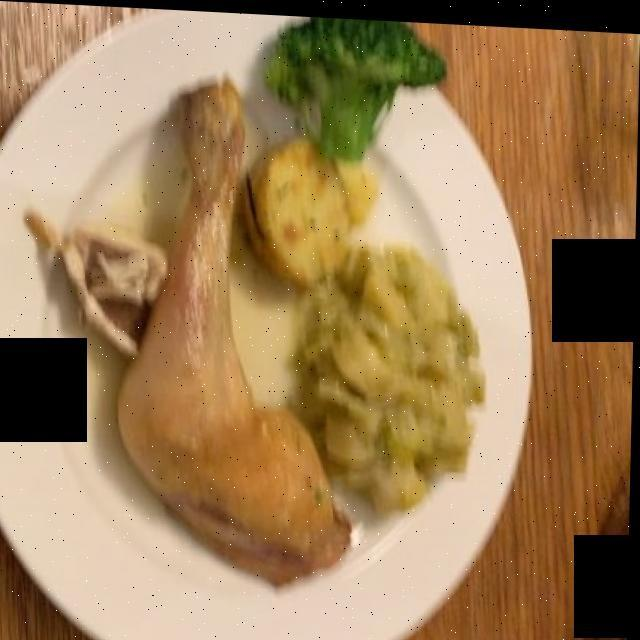broccoli: (267, 20, 443, 156)
chicken: (118, 83, 344, 576)
